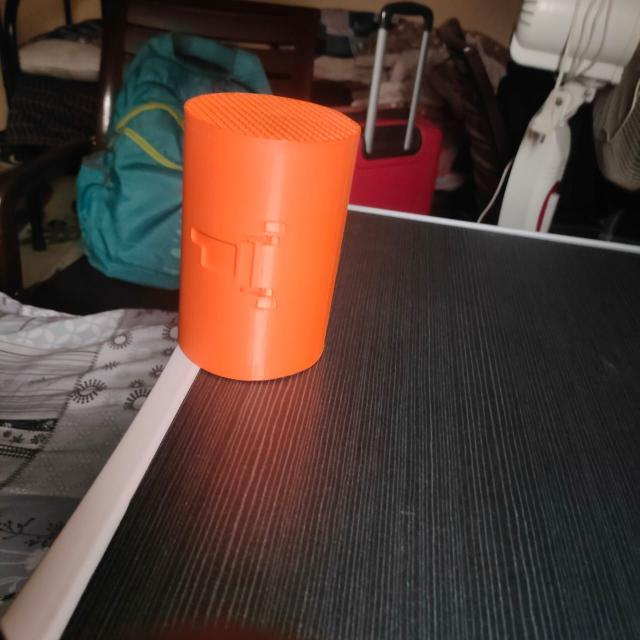Cylinder: (176, 90, 362, 382)
